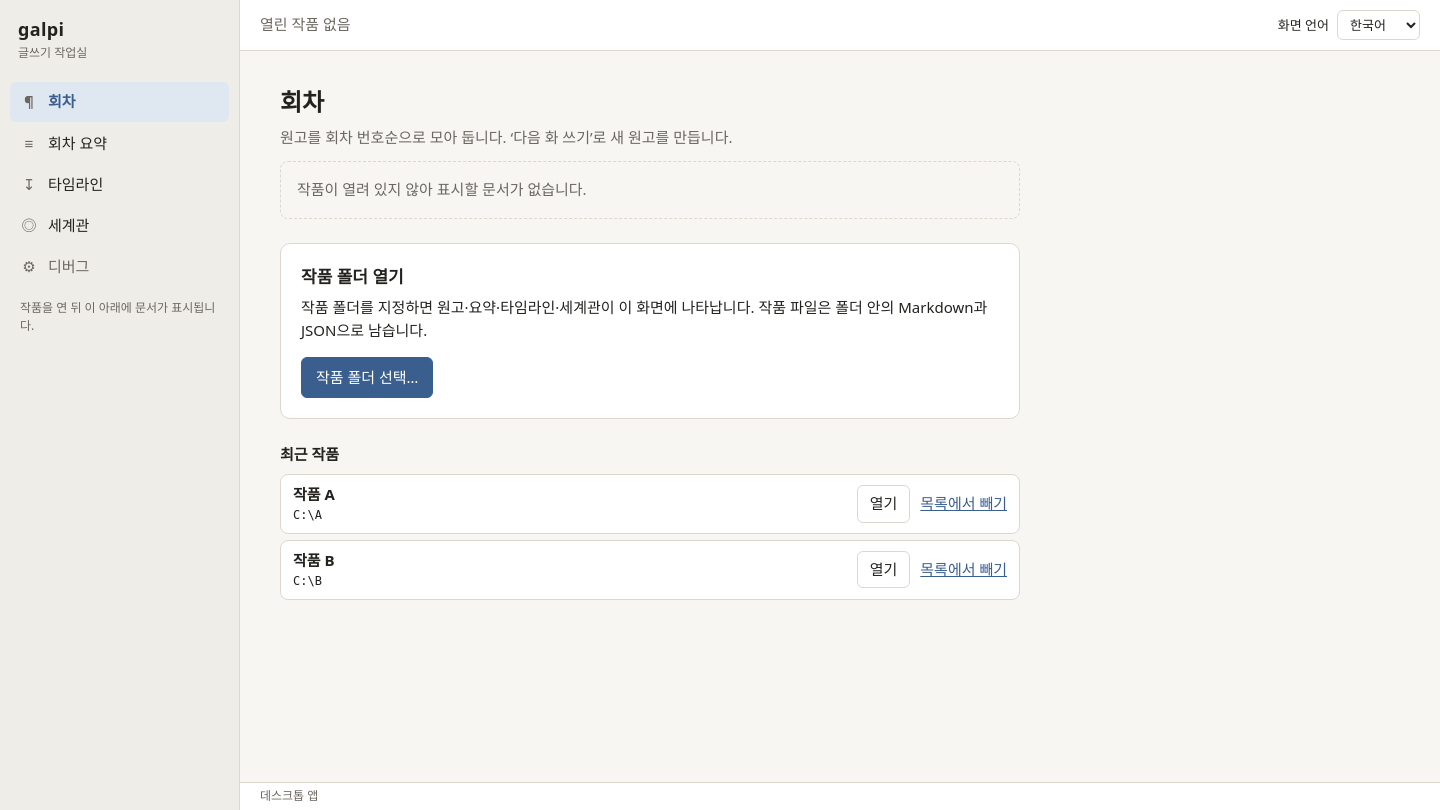
Test: work folder flows › a late answer about the previous work never replaces the work opened after it
Expected: the navigation bar is shown, [10,82,229,287]
Click the button "열기" in the row of "작품 A": x=884, y=504 [857,485,910,523]
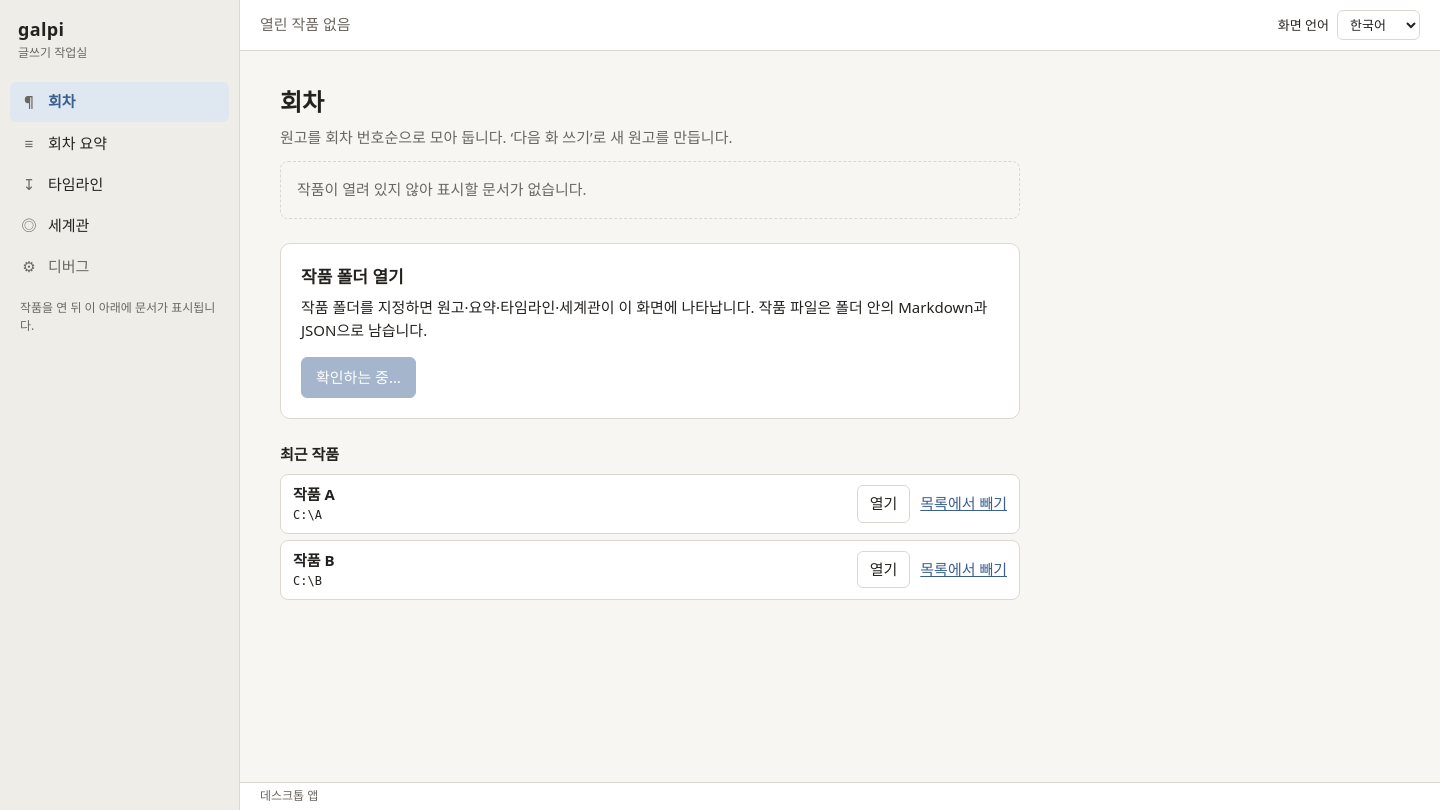
Click the button "열기" in the row of "작품 B": x=884, y=570 [857,551,910,588]
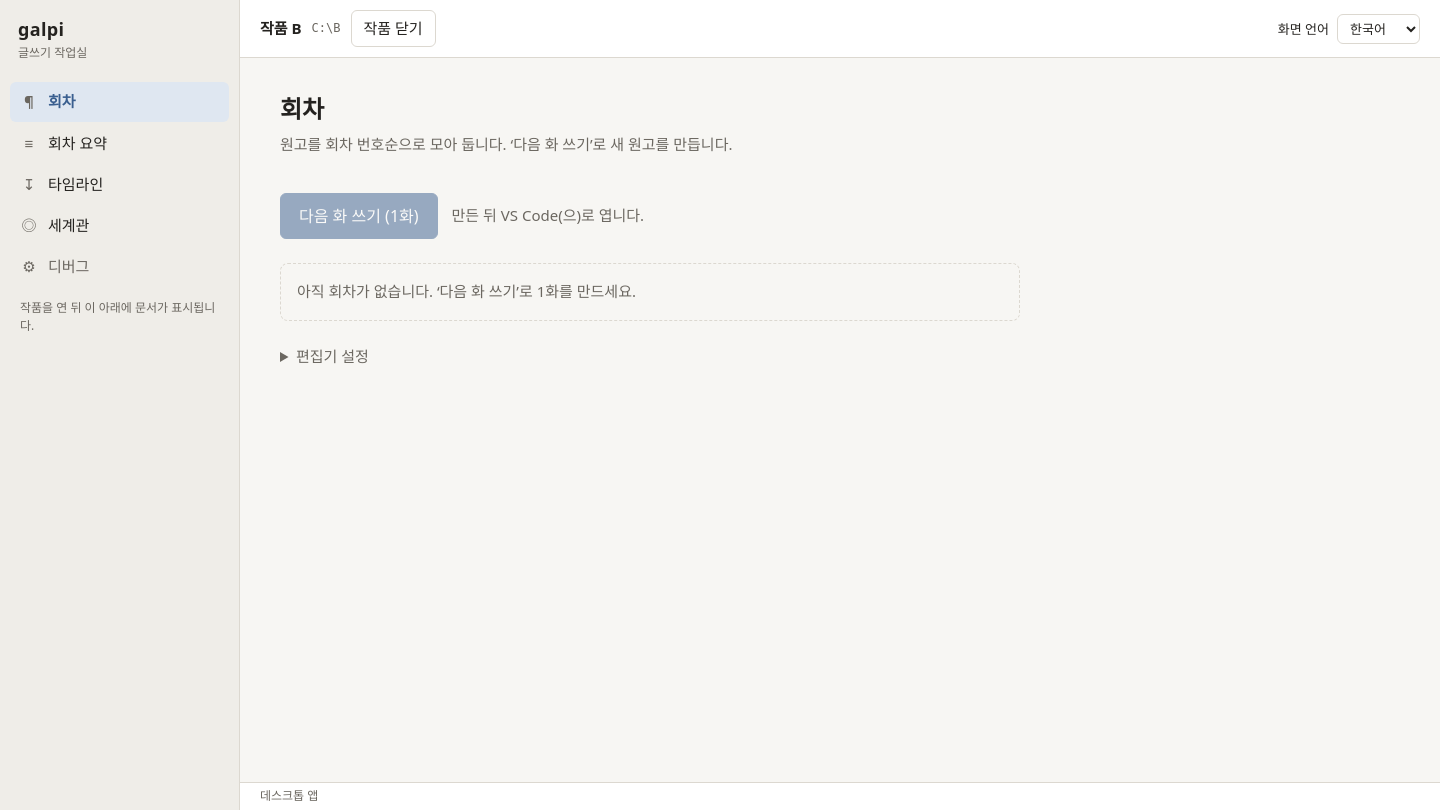
Now the text "작품 B" is shown, box [260,17,302,40]
Now the text "작품 A" is gone
